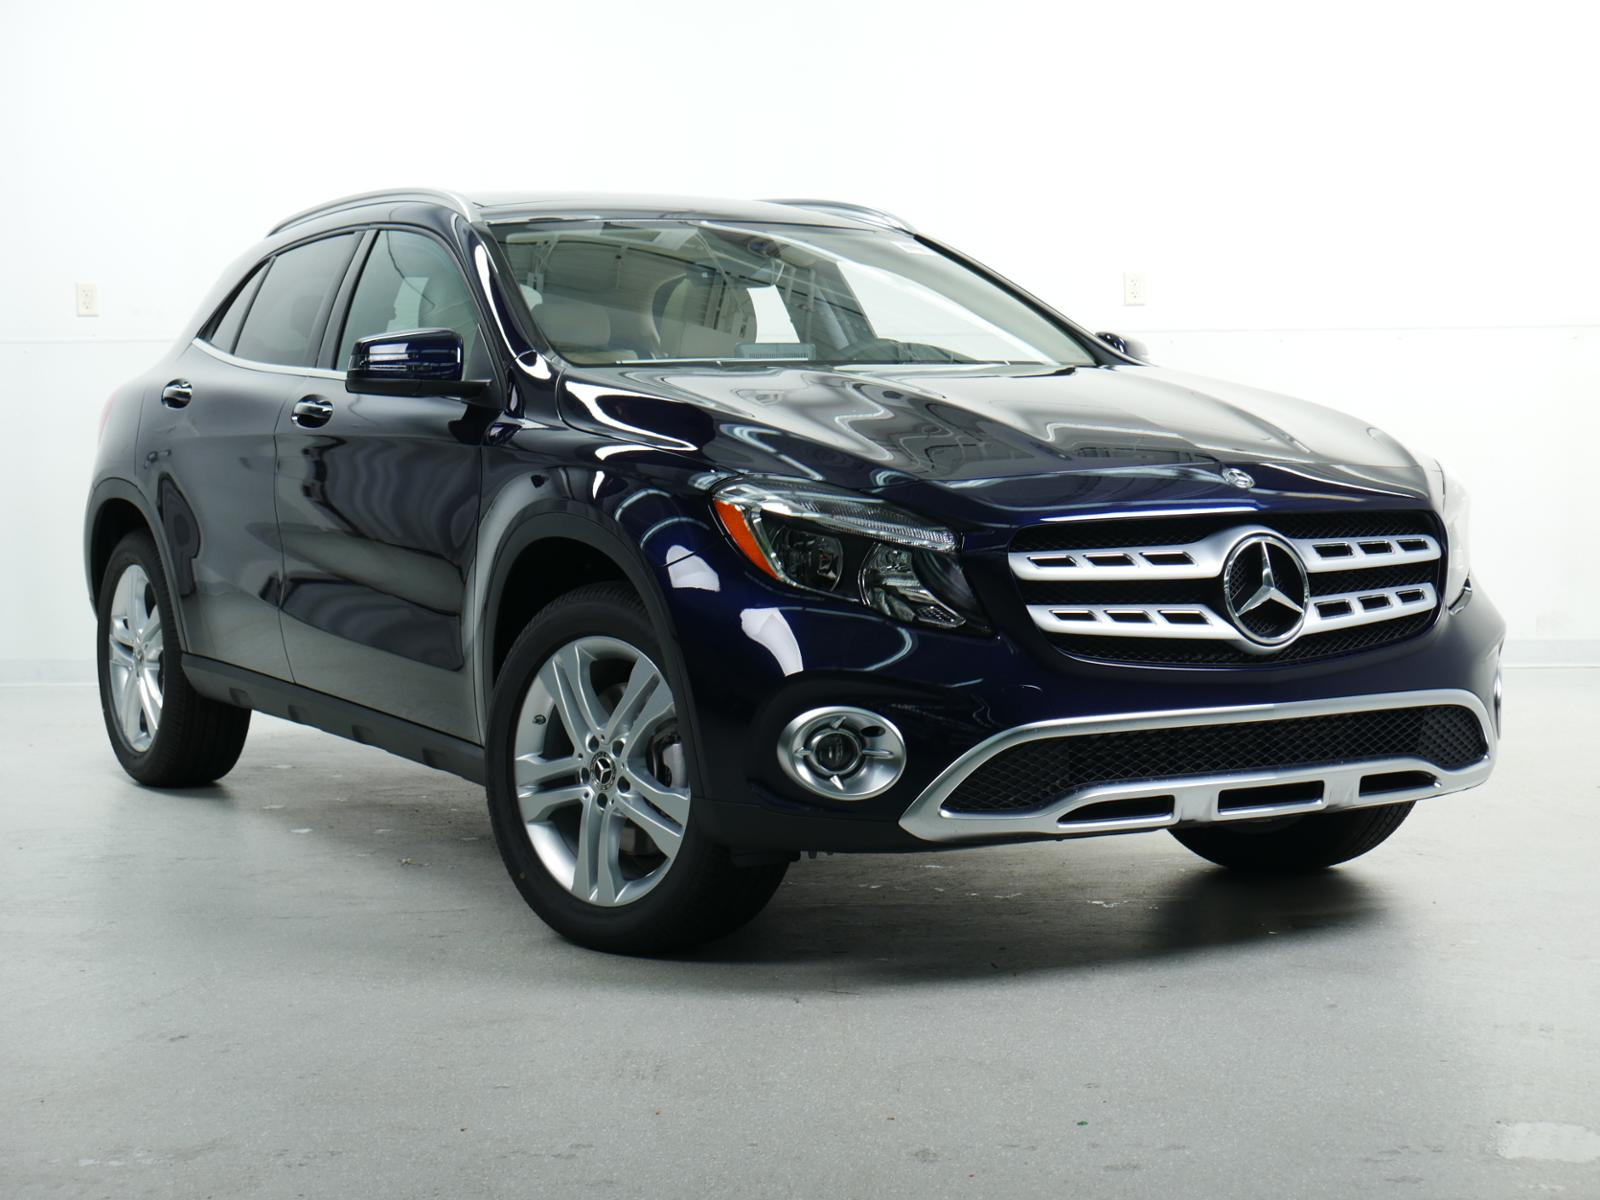gla: (74, 174, 1560, 1022)
